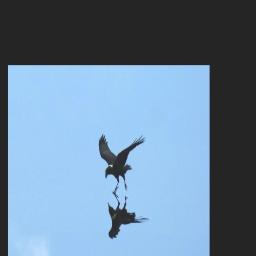Crow: (98, 133, 147, 196)
